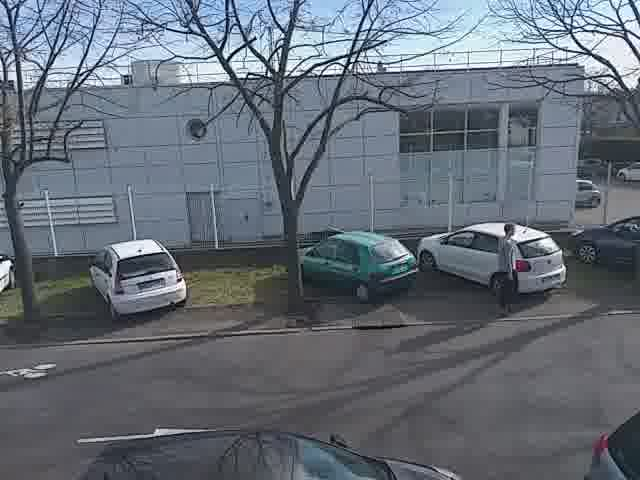persona: (487, 217, 526, 318)
